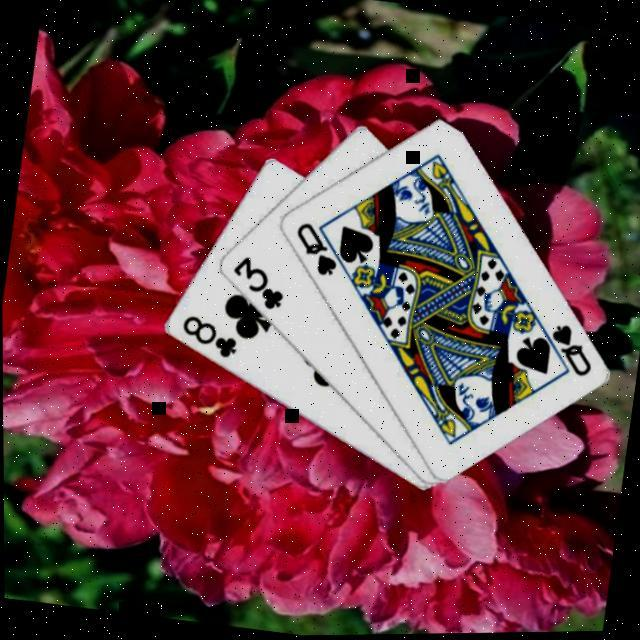3C: (224, 252, 291, 317)
8C: (175, 312, 243, 365)
QS: (288, 220, 345, 283), (542, 322, 599, 384)
